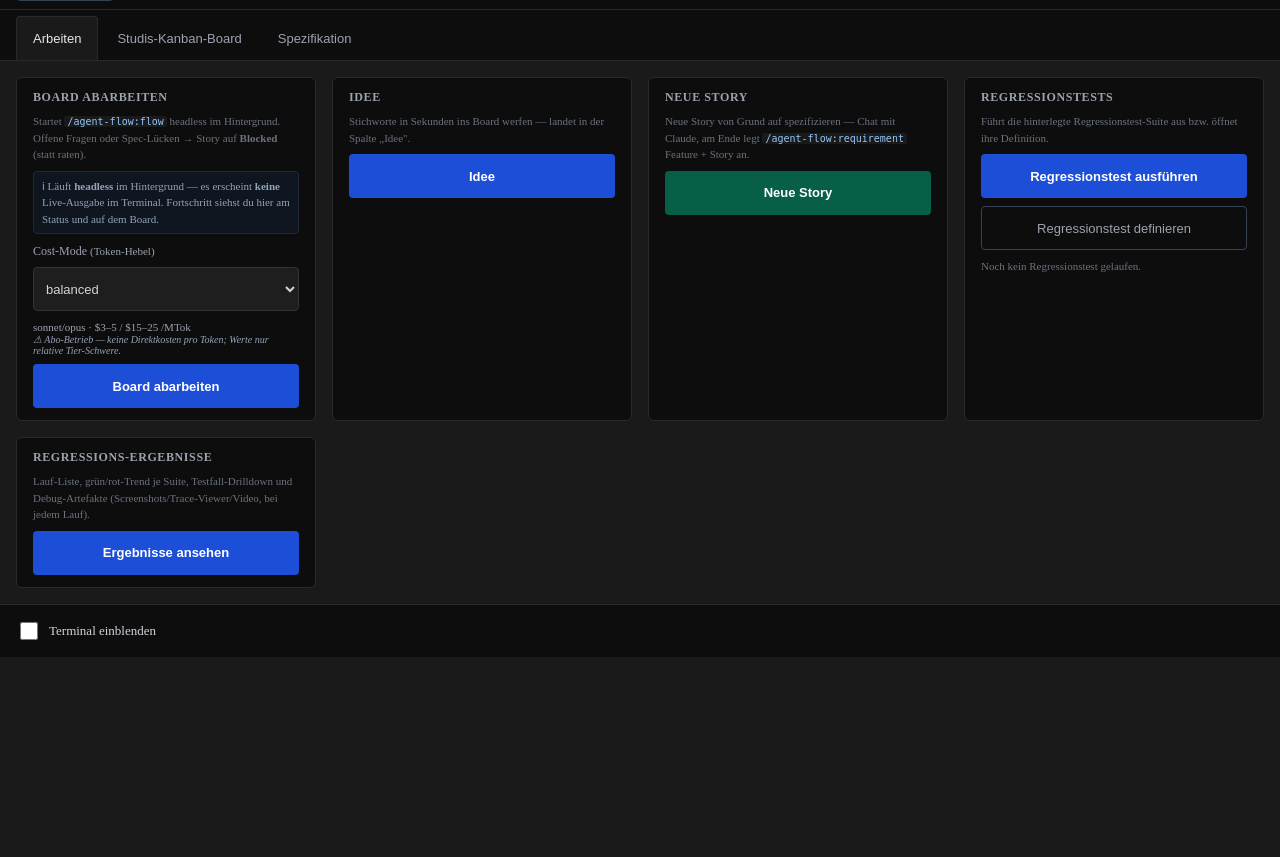
Scenario: CockpitView — AC3: Reiter-Leiste und Reiter-Umschaltung › Checkbox „Terminal einblenden" aktivieren zeigt main[aria-label="Terminal"] (fabrik-arbeiten-layout AC2)
Click the checkbox with test id "show-terminal-checkbox" at (29, 630), box [20,622,38,640]
(page scrolled)
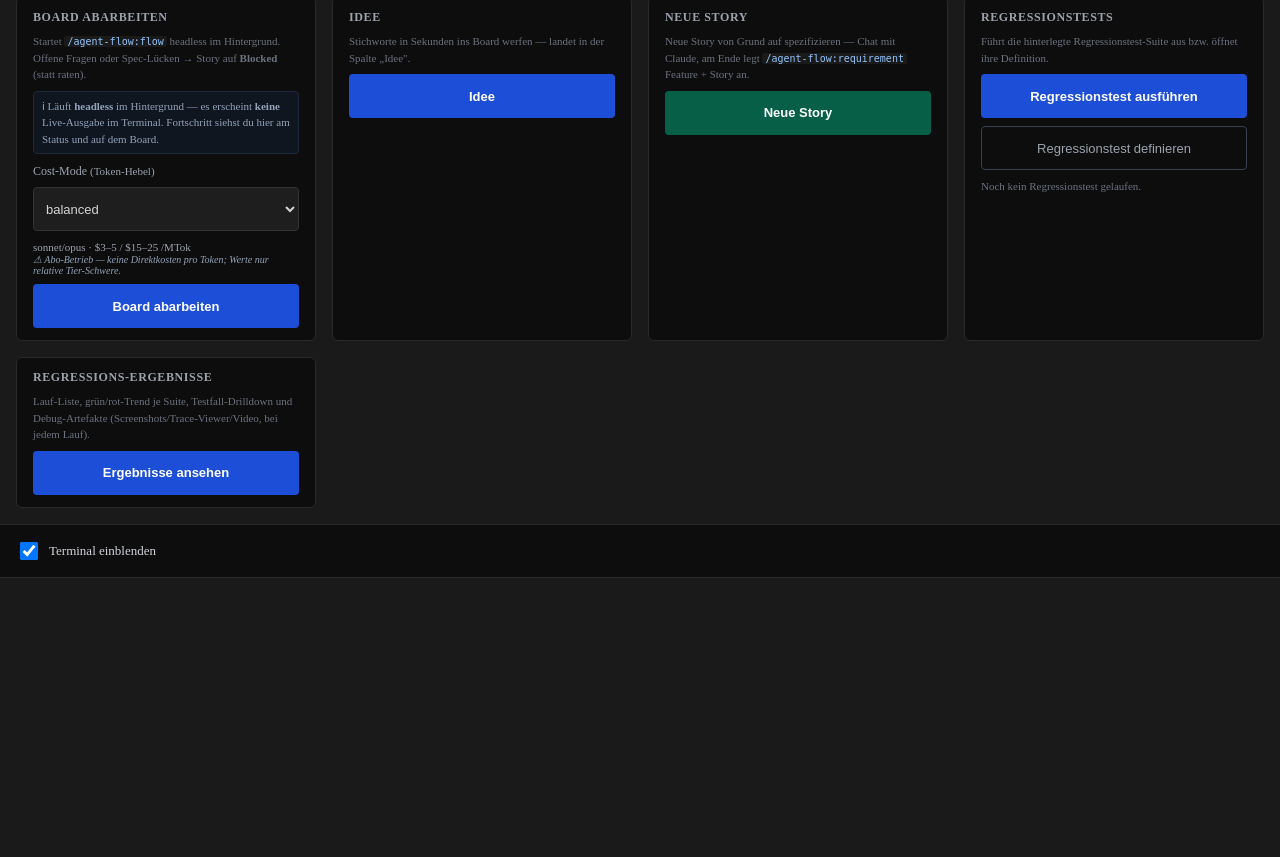
Check: the element named "terminal" is shown, box [0,576,1279,856]
